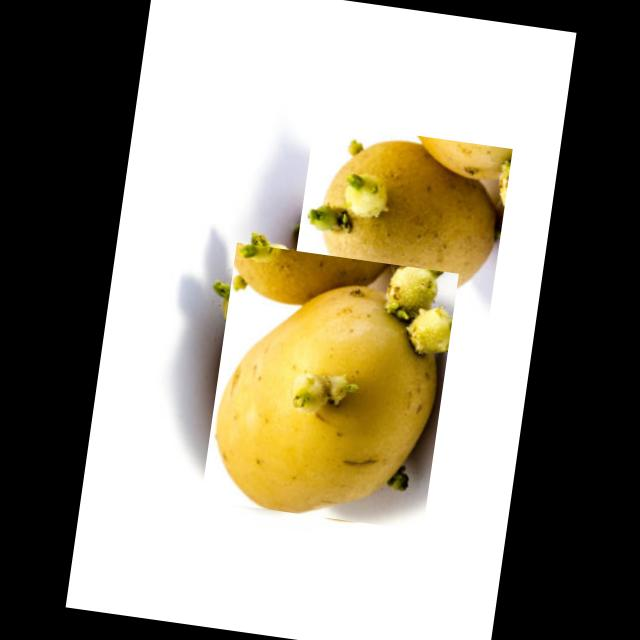Sprouted potato: (200, 243, 458, 532), (287, 121, 512, 339)
